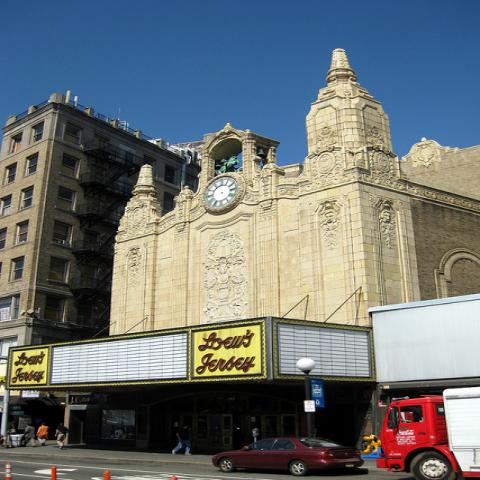car: (213, 437, 372, 472)
truck: (384, 392, 480, 474)
